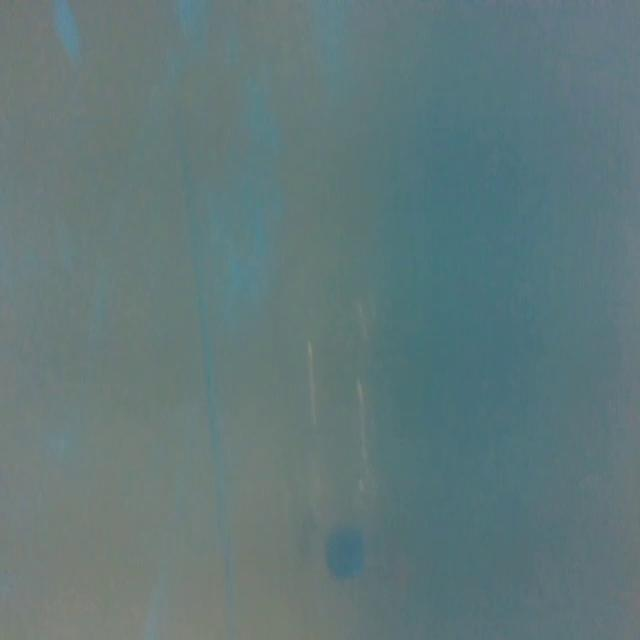plastic bottle: (291, 278, 398, 586)
